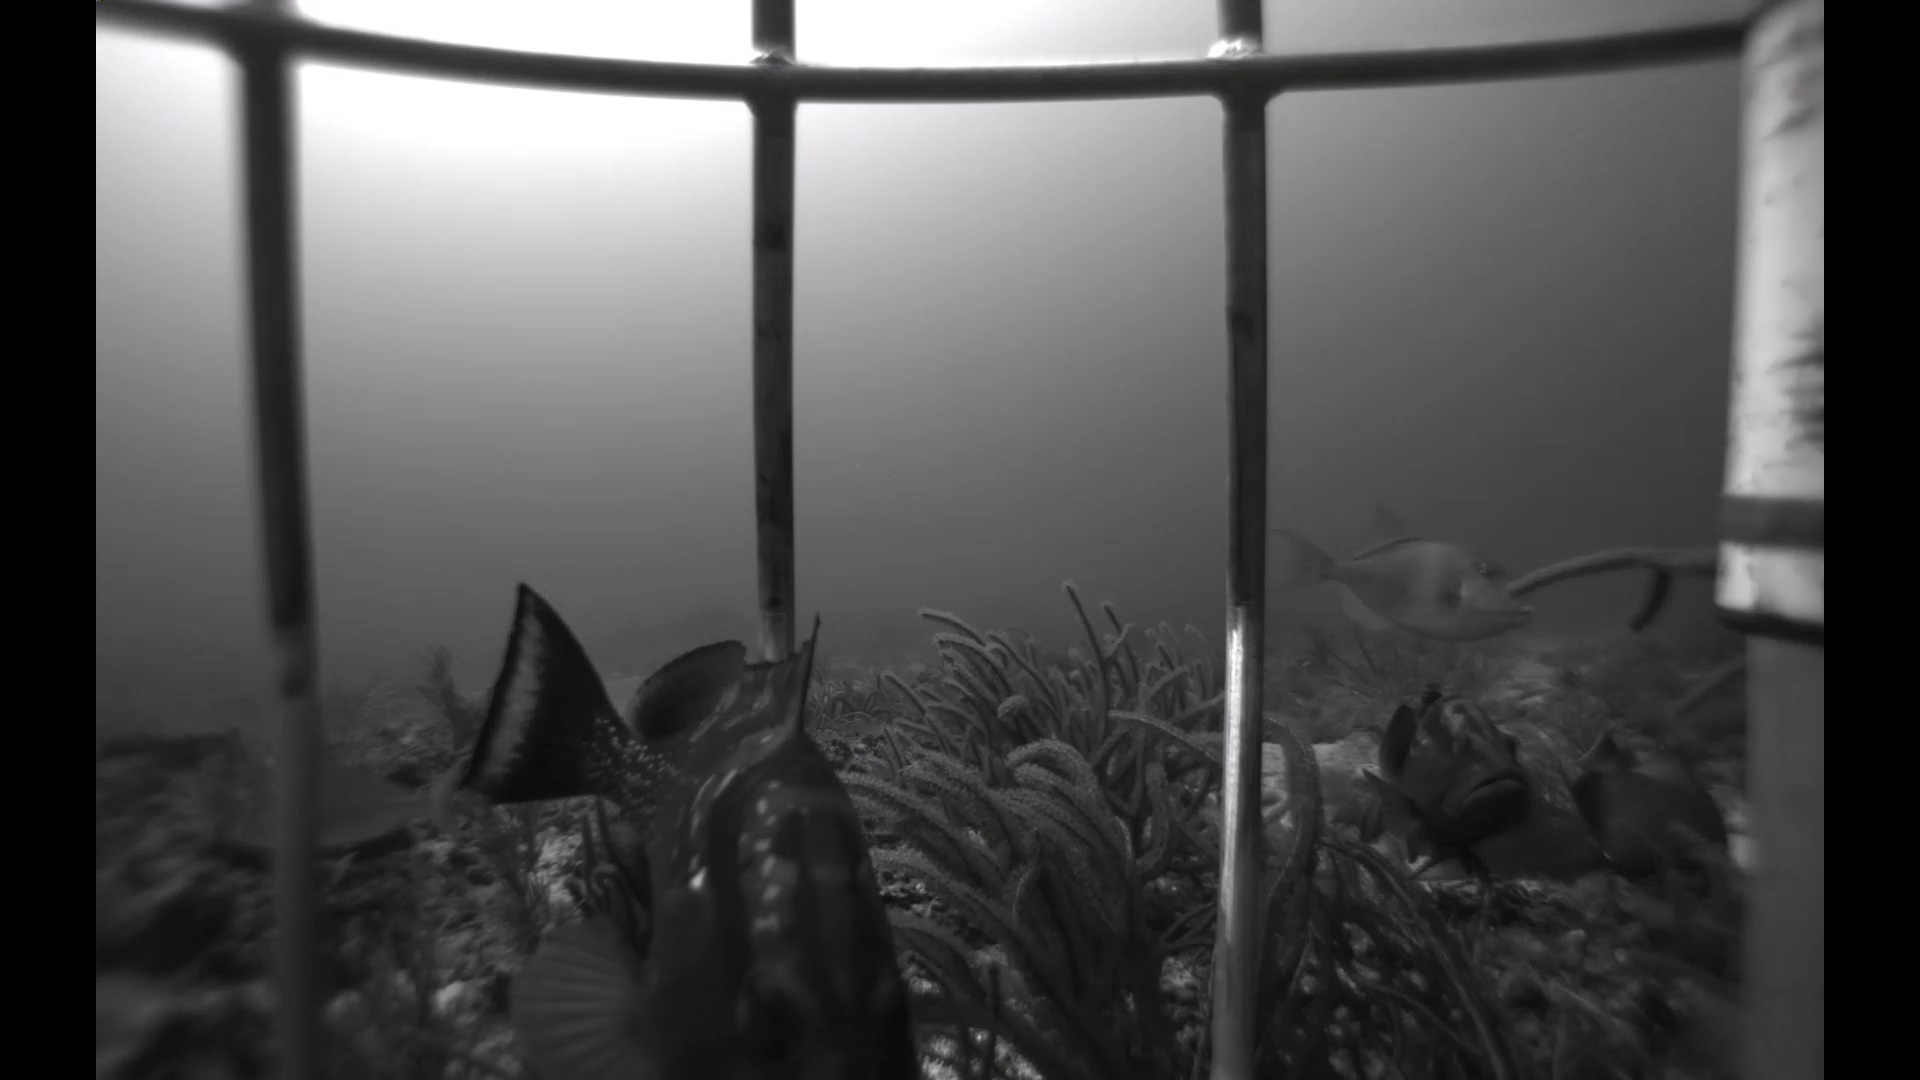BALISTESCAPRISCUS-189030502: (1265, 477, 1547, 655)
CALAMUSNODOSUS-170210608: (216, 741, 471, 866)
EPINEPHELUSMORIO-170021211: (438, 555, 1011, 1071), (1335, 663, 1549, 865)
LACHNOLAIMUSMAXIMUS-170281801: (1341, 781, 1600, 899)
POMACANTHUSARCUATUS-170290201: (1551, 719, 1755, 926)
